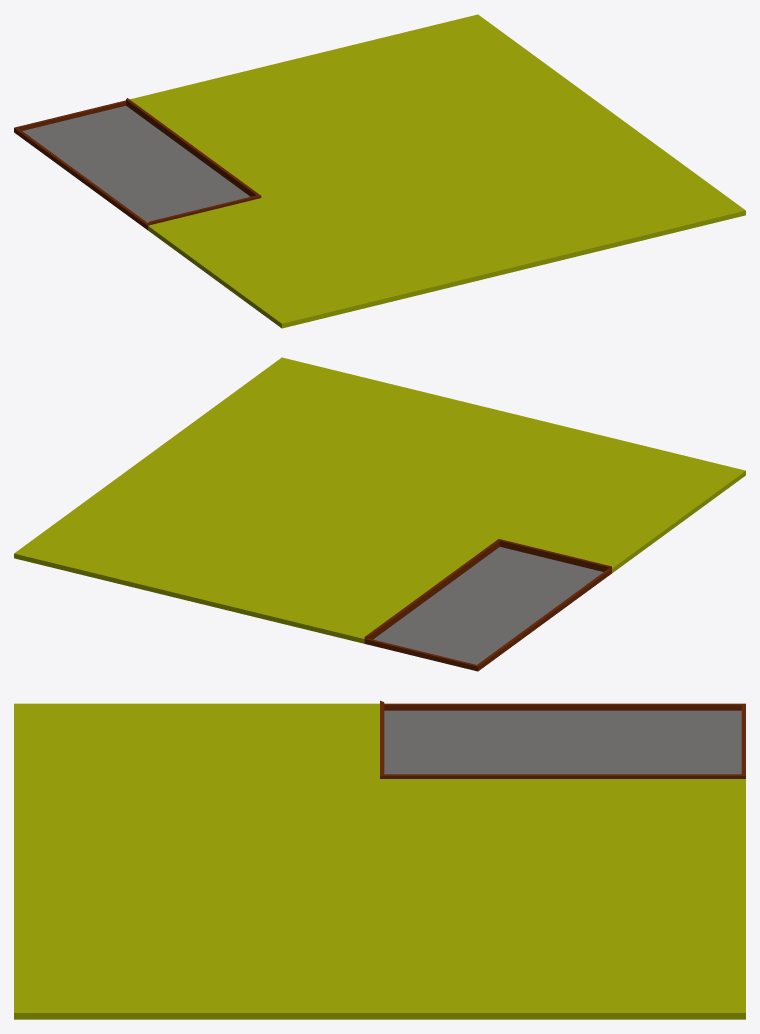
Rendered from House_Floor.fbx.
The picture shows the model from 3 angles, top to bottom: view 1: azimuth 30°, elevation 25°; view 2: azimuth 150°, elevation 25°; view 3: azimuth 270°, elevation 25°; orthographic projection. The views are drawn at different scales.
Visible parts, largest first — view 1: Suelo.002; view 2: Suelo.002; view 3: Suelo.002.
Boxes of the visible parts, x1=… form: Suelo.002: x1=14, y1=14, x2=745, y2=328; Suelo.002: x1=14, y1=357, x2=745, y2=671; Suelo.002: x1=14, y1=700, x2=745, y2=1019.
Size of the model in its own units: 3773 by 54.97 by 3773.
